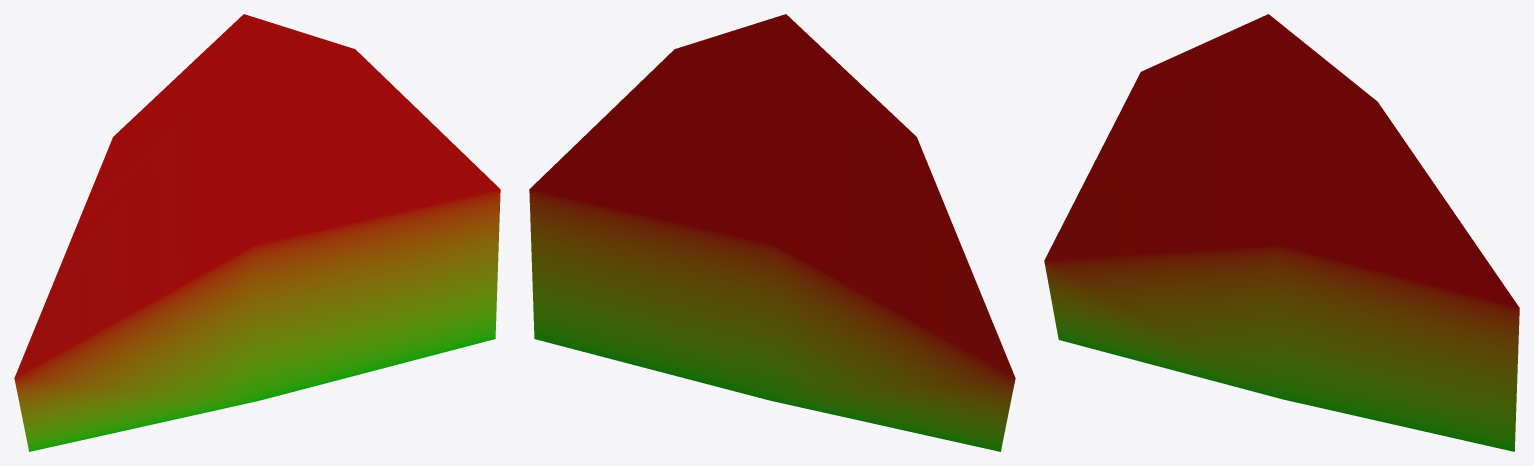
Rendered from Wild Grass_LOD4_Var6_vczndjqja.fbx.
3 renders of one model, left to right at view 1: azimuth 30°, elevation 25°; view 2: azimuth 150°, elevation 25°; view 3: azimuth 330°, elevation 25°, orthographic. The views are drawn at different scales.
Parts seen in each view (by area): view 1: _vxna_Var6_LOD4; view 2: _vxna_Var6_LOD4; view 3: _vxna_Var6_LOD4.
Boxes of the visible parts, box(x1,y1,x2,y2) form: _vxna_Var6_LOD4: box(14, 14, 500, 451); _vxna_Var6_LOD4: box(529, 14, 1015, 451); _vxna_Var6_LOD4: box(1044, 14, 1519, 451).
Bounding box in the file's own units: 118 × 90.91 × 5.82e-11.
